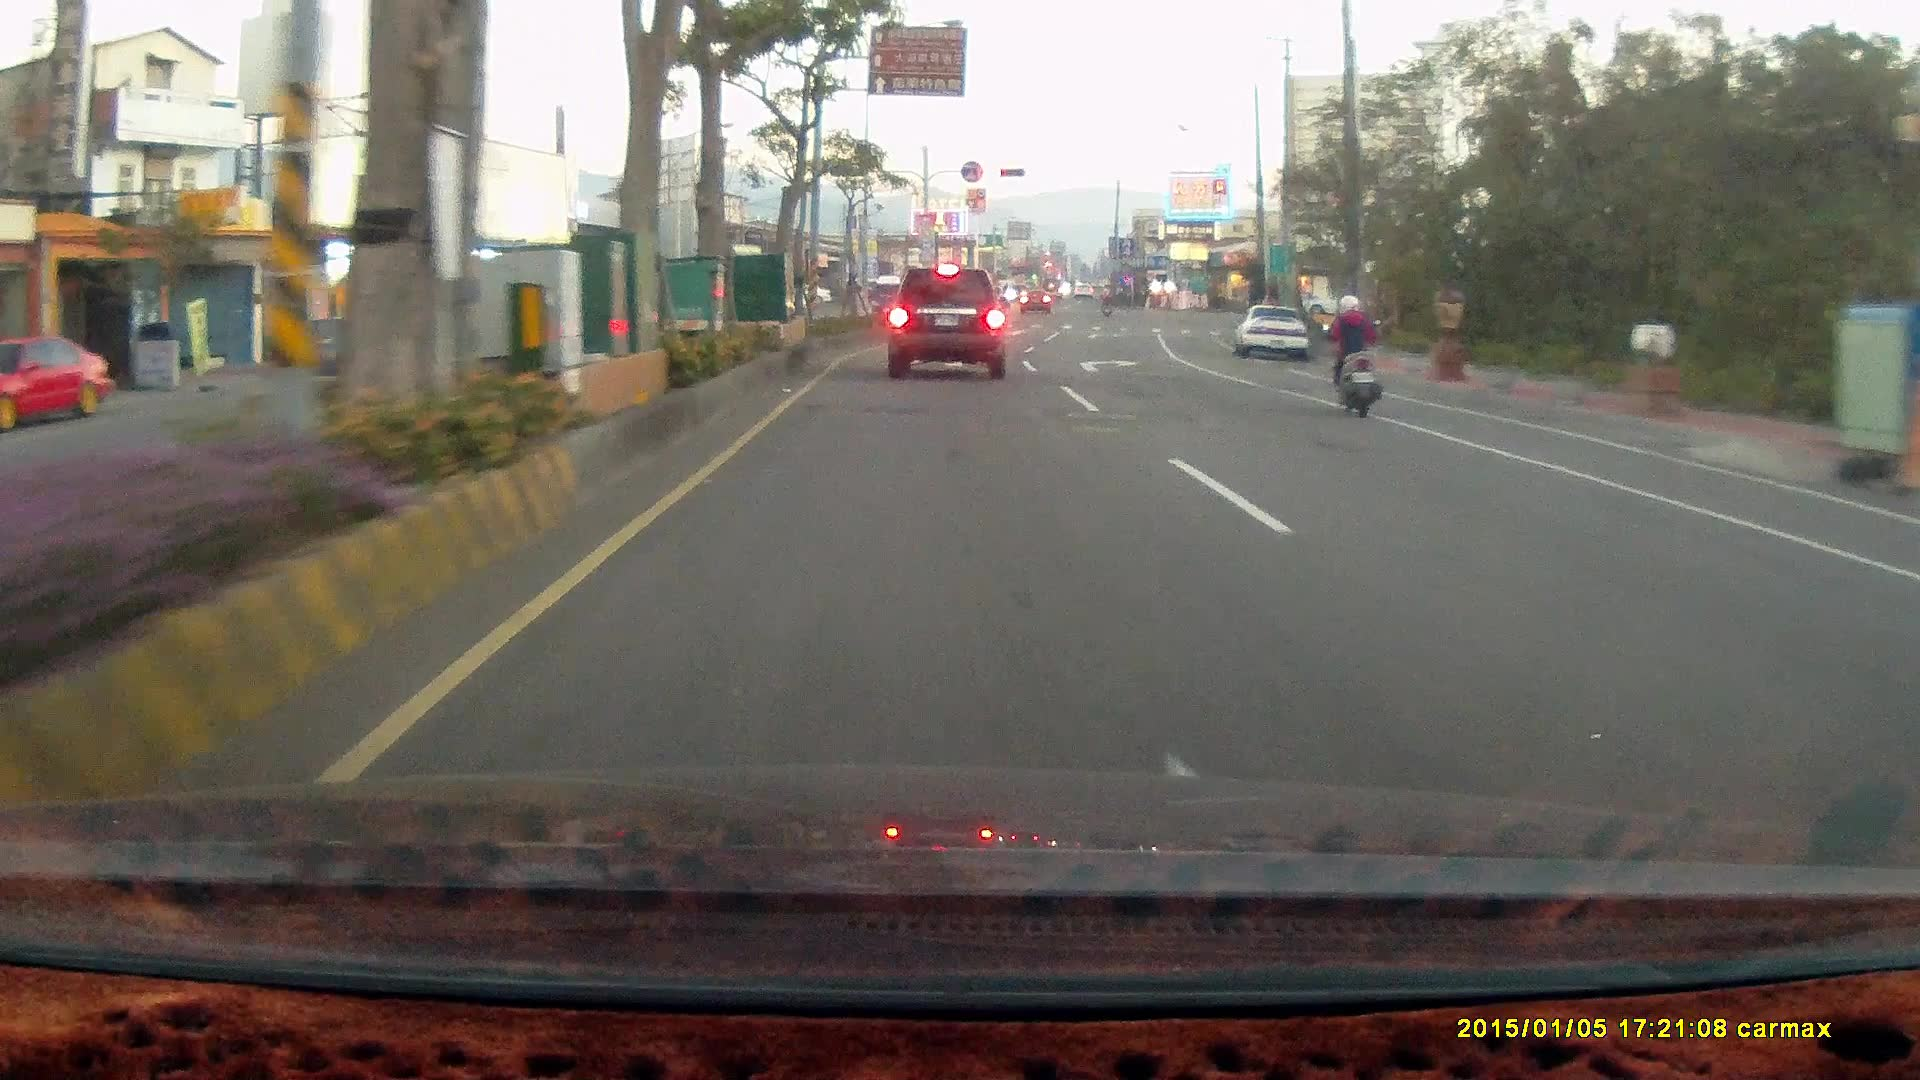rider: (1321, 292, 1383, 418)
vehicle: (885, 264, 1005, 381), (1, 334, 113, 433), (1896, 493, 1920, 836), (1883, 528, 1920, 690), (1231, 302, 1309, 363), (1239, 307, 1312, 361), (1297, 281, 1370, 317)
